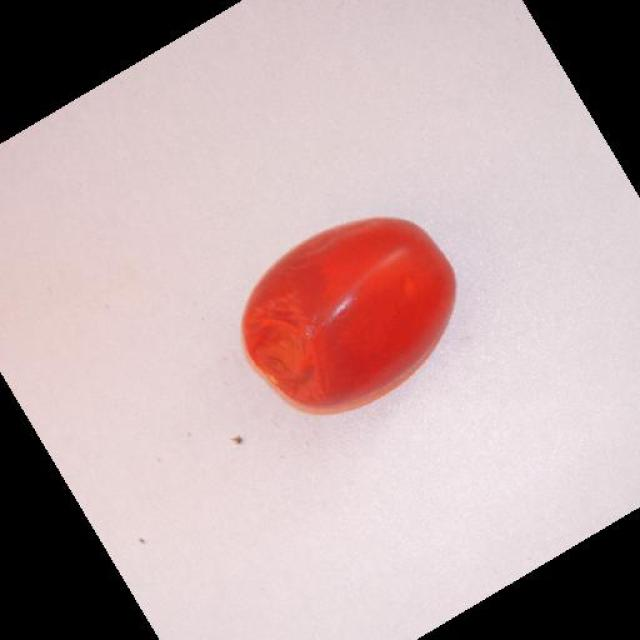Stale_tomato: (239, 225, 446, 425)
